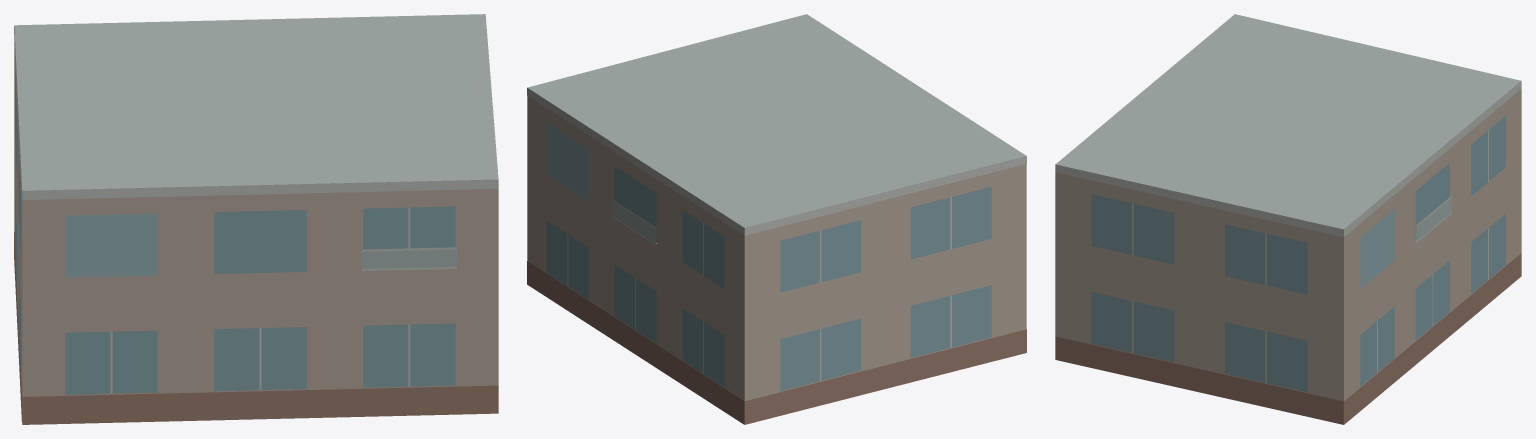
File: survey-upis-33018080.glb
3 views of the same model, side by side, from view 1: azimuth 30°, elevation 25°; view 2: azimuth 150°, elevation 25°; view 3: azimuth 270°, elevation 25° (orthographic). The views are drawn at different scales.
Visible parts, largest first — view 1: survey-upis-33018080.tmp; view 2: survey-upis-33018080.tmp; view 3: survey-upis-33018080.tmp.
Boxes of the visible parts, left/top/right/bottom form: survey-upis-33018080.tmp: left=14, top=14, right=498, bottom=424; survey-upis-33018080.tmp: left=527, top=14, right=1026, bottom=424; survey-upis-33018080.tmp: left=1055, top=14, right=1521, bottom=424.
Bounding box in the file's own units: 14.43 × 6.1 × 13.19.
